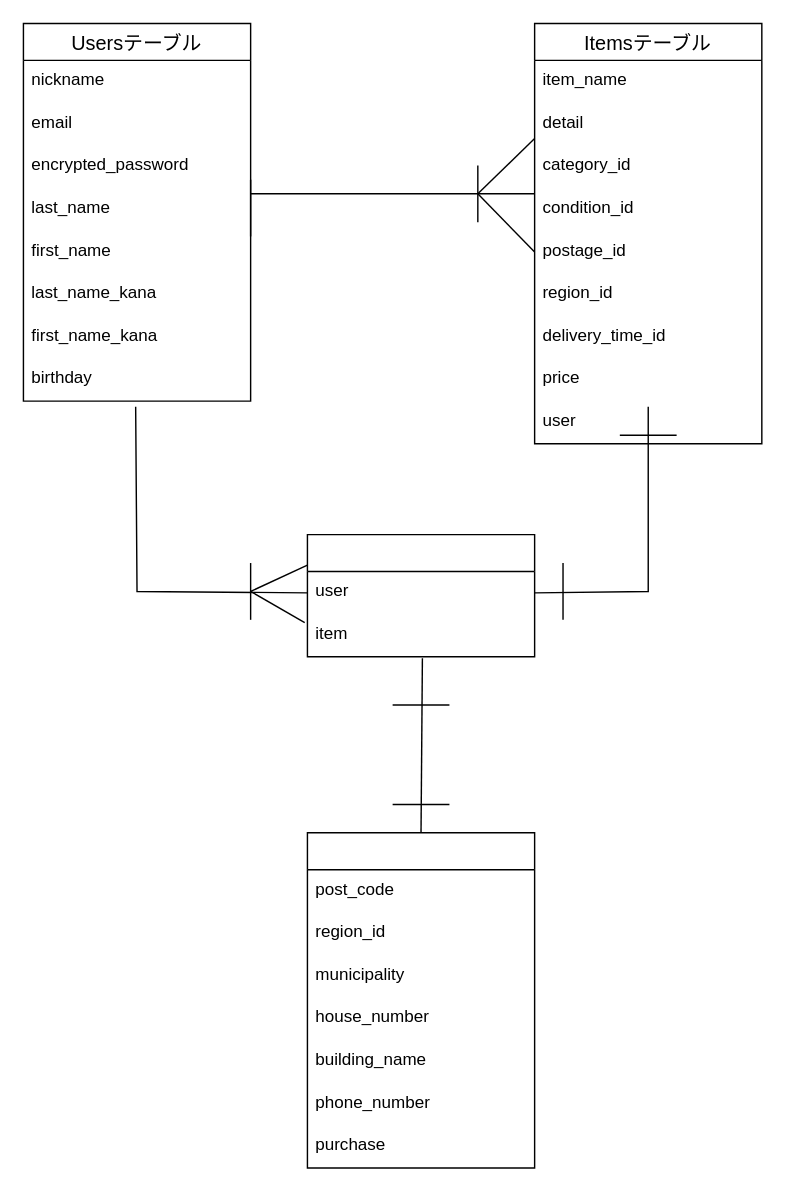
The diagram is 785 pixels wide and 1191 high, and some of its shapes have lost their labels. Each missing label, with the box of its shape:
Addressesテーブル: (306, 831, 535, 1168)
Purchasesテーブル: (306, 533, 535, 657)
